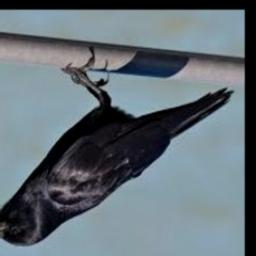Crow: (0, 59, 235, 246)
